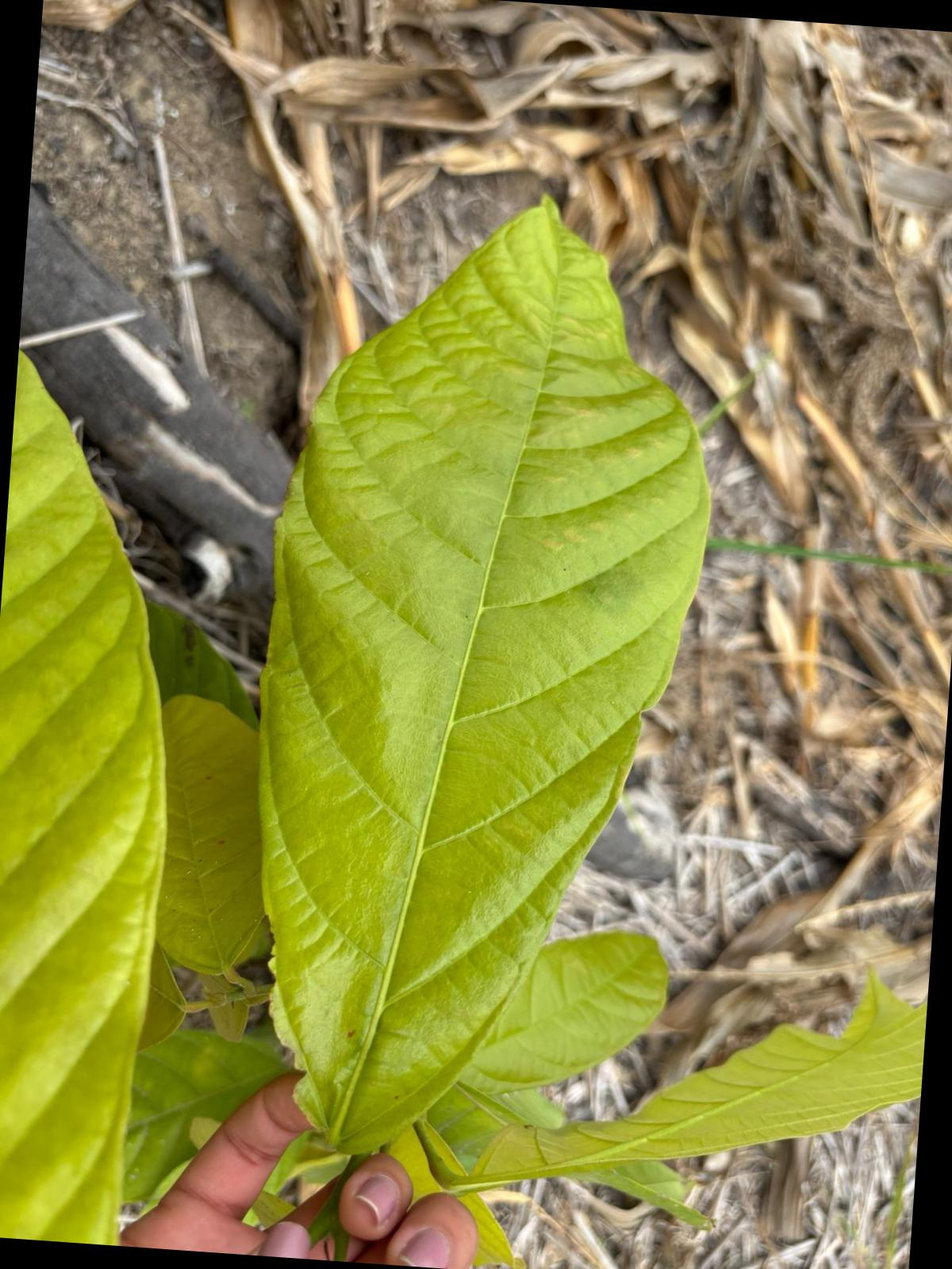Nitrogeno: (259, 205, 708, 1152), (0, 358, 165, 1245)
